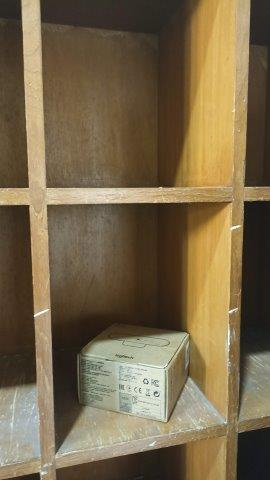kardus: (78, 323, 189, 422)
